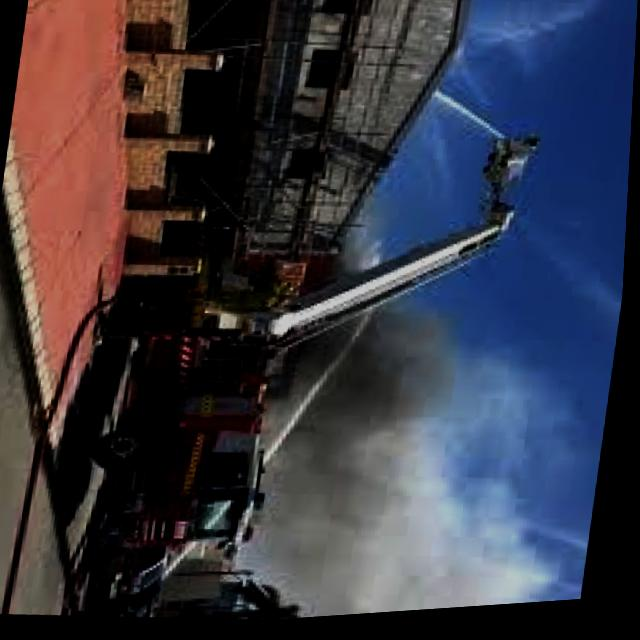no_helmet: (225, 277, 585, 627)
